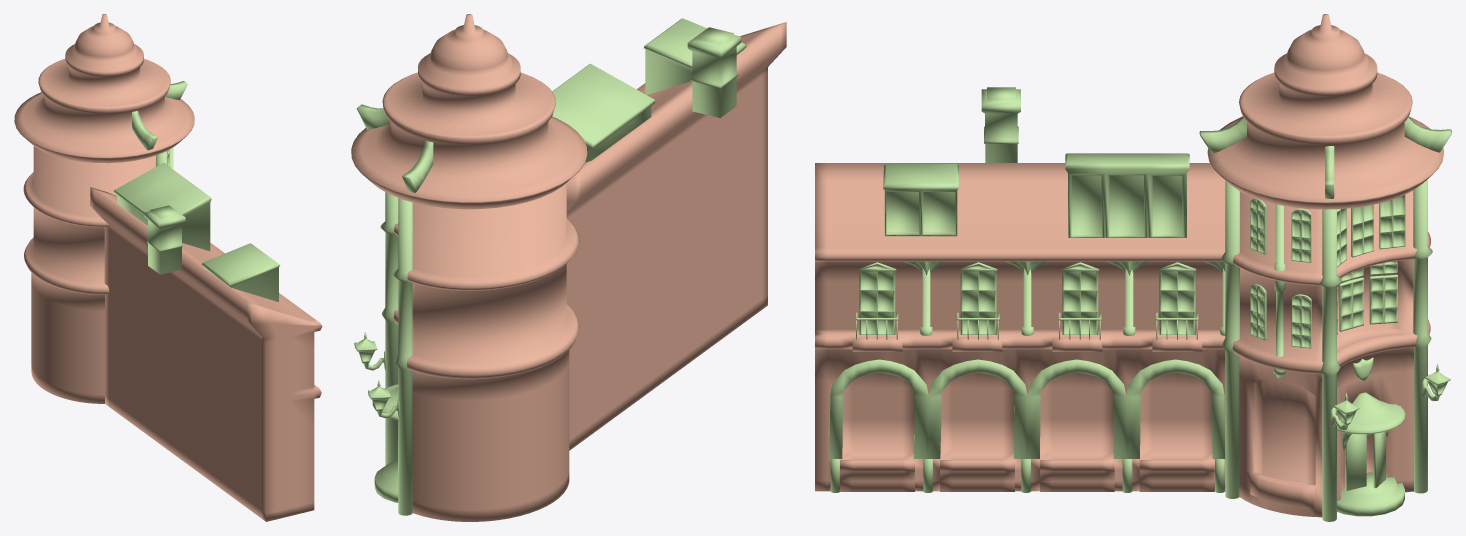
File: Hotel.fbx
3 renders of one model, left to right at view 1: azimuth 30°, elevation 25°; view 2: azimuth 150°, elevation 25°; view 3: azimuth 270°, elevation 25°, orthographic. The views are drawn at different scales.
Parts seen in each view (by area): view 1: HotelBase_low.001, Ornamentos_low.026; view 2: HotelBase_low.001, Ornamentos_low.026; view 3: HotelBase_low.001, Ornamentos_low.026.
Part boxes in pixels (x1=…): HotelBase_low.001: x1=14, y1=14, x2=322, y2=521; Ornamentos_low.026: x1=113, y1=81, x2=279, y2=301; HotelBase_low.001: x1=351, y1=14, x2=786, y2=521; Ornamentos_low.026: x1=354, y1=18, x2=746, y2=515; HotelBase_low.001: x1=815, y1=14, x2=1443, y2=517; Ornamentos_low.026: x1=829, y1=87, x2=1451, y2=521.
Bounding box in the file's own units: 673 × 1421 × 1755.
